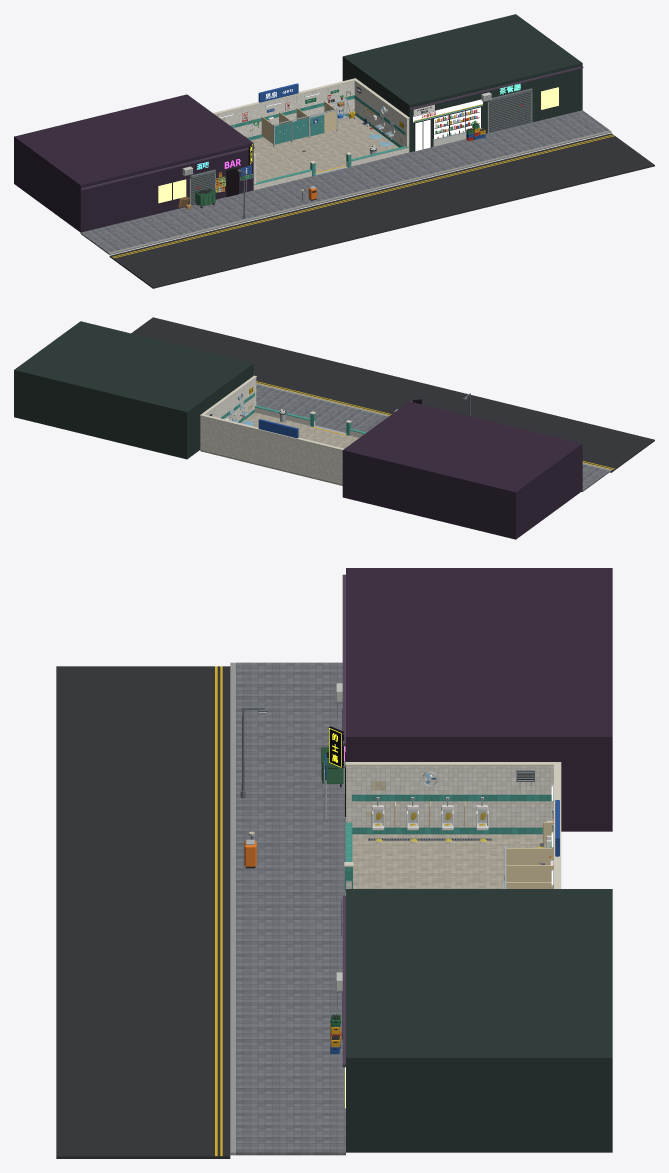
The model's file is level_mens.glb.
3 renders of one model, top to bottom at view 1: azimuth 30°, elevation 25°; view 2: azimuth 150°, elevation 25°; view 3: azimuth 270°, elevation 25°, orthographic. The views are drawn at different scales.
Visible parts, largest first — view 1: neighbours, street, walls, floor, decor, stall_partitions, signage; view 2: neighbours, street, walls, floor, signage; view 3: street, neighbours, walls, floor, stall_partitions, decor.
Boxes of the visible parts, bbox=[...] form: neighbours: bbox=[14, 14, 583, 232]; street: bbox=[80, 110, 654, 288]; walls: bbox=[213, 78, 409, 190]; floor: bbox=[250, 115, 398, 182]; decor: bbox=[195, 87, 403, 218]; stall_partitions: bbox=[261, 101, 337, 146]; signage: bbox=[240, 83, 298, 197]; neighbours: bbox=[14, 321, 583, 539]; street: bbox=[131, 317, 654, 491]; walls: bbox=[200, 375, 366, 484]; floor: bbox=[200, 412, 358, 485]; signage: bbox=[258, 419, 298, 438]; street: bbox=[56, 662, 345, 1158]; neighbours: bbox=[329, 568, 612, 1152]; walls: bbox=[344, 761, 561, 891]; floor: bbox=[352, 834, 546, 888]; stall_partitions: bbox=[503, 845, 553, 888]; decor: bbox=[240, 707, 553, 895].
Size of the model in its own units: 40 by 3.92 by 19.2.
Materials: 101 (5 with a texture image).
